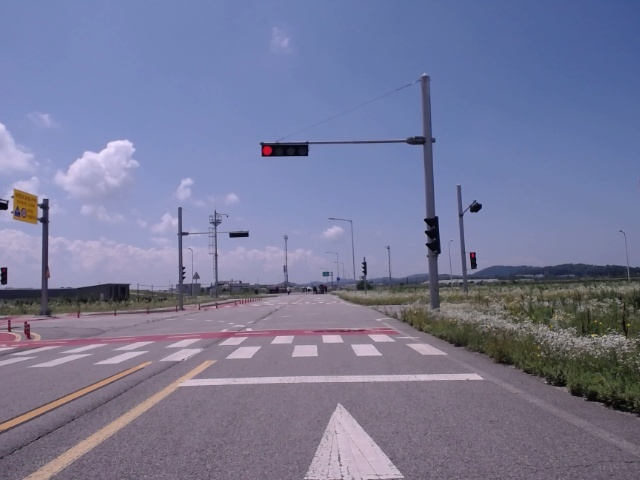red_4: (261, 144, 308, 156)
